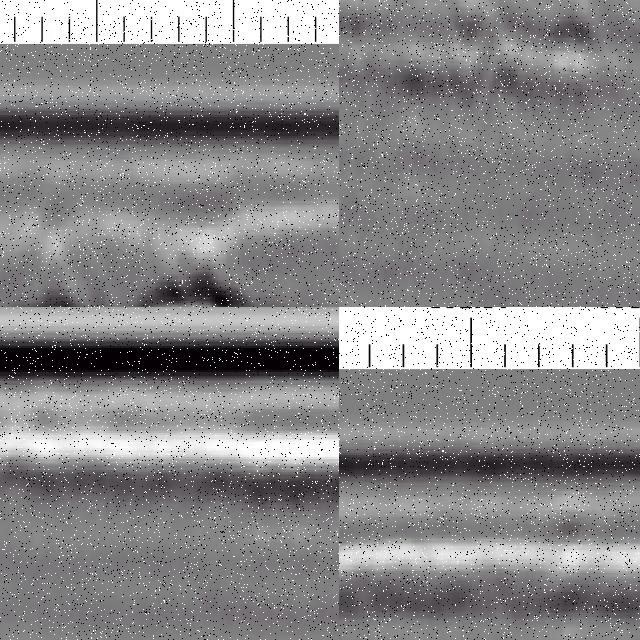loose: (340, 1, 606, 100), (1, 243, 247, 308)
